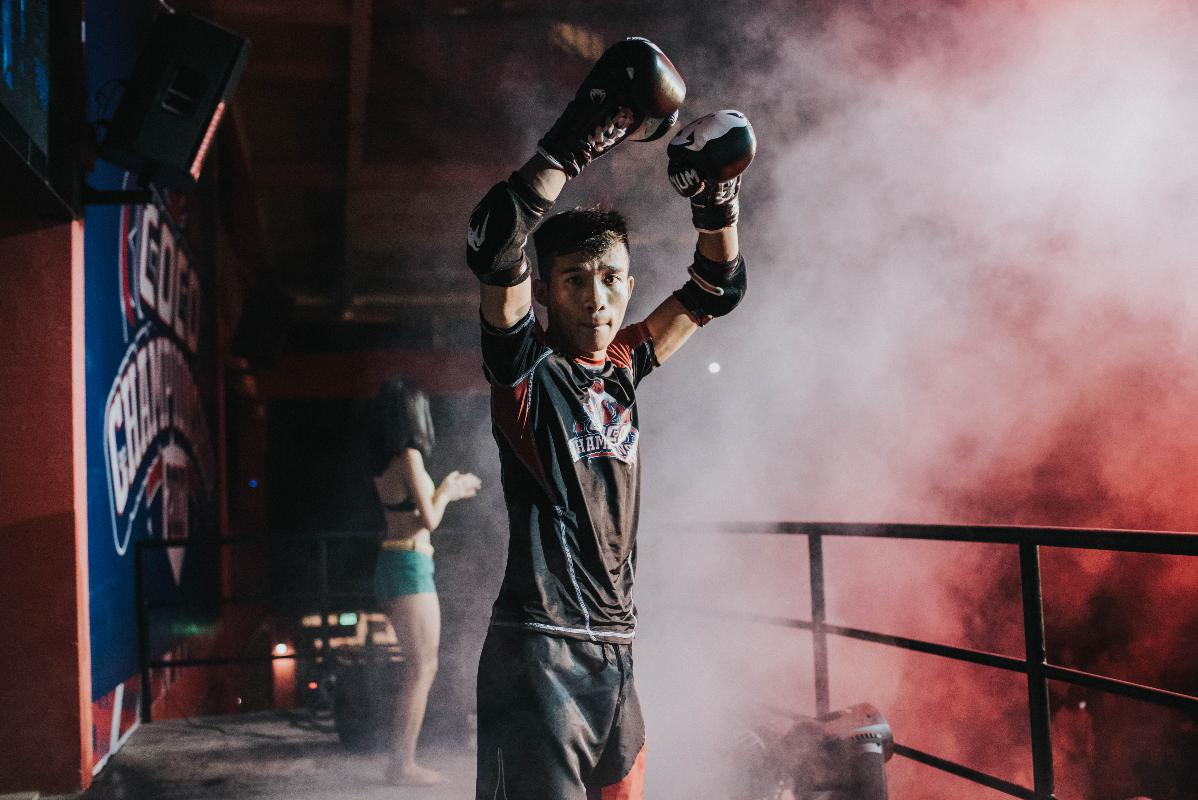Person: (473, 50, 756, 800), (350, 373, 488, 791)
